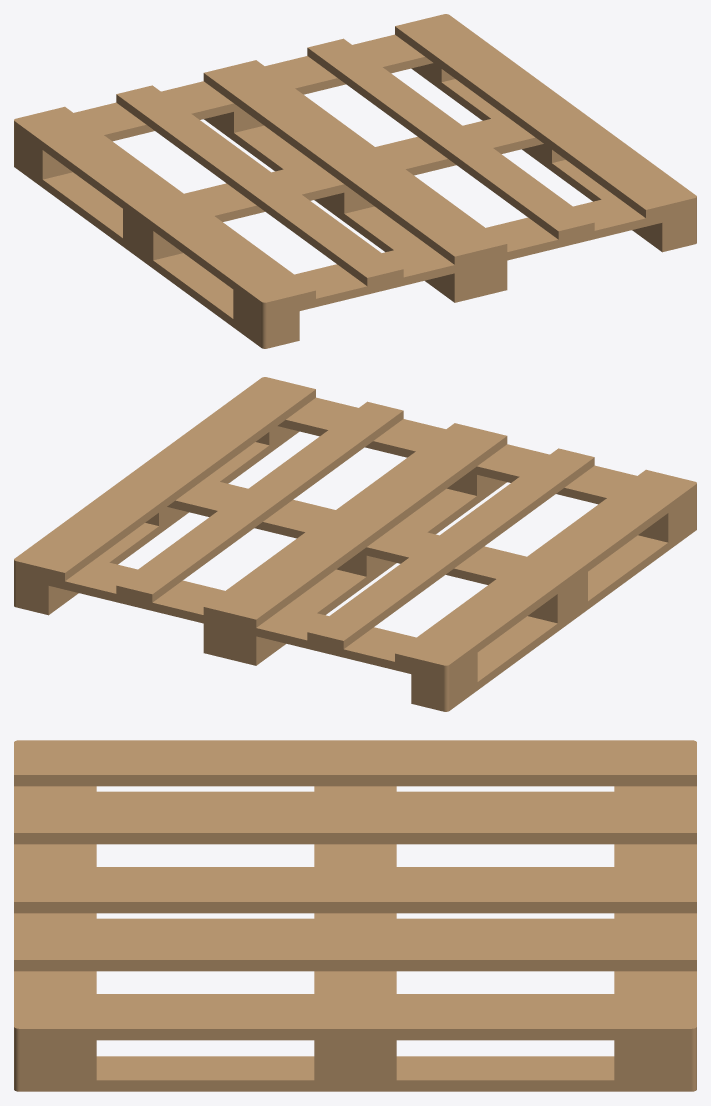
The model's file is Pallet.dae.
The picture shows the model from 3 angles, top to bottom: view 1: azimuth 30°, elevation 25°; view 2: azimuth 150°, elevation 25°; view 3: azimuth 270°, elevation 25°; orthographic projection. The views are drawn at different scales.
Parts seen in each view (by area): view 1: pallet; view 2: pallet; view 3: pallet.
Boxes of the visible parts, box(x1,y1,x2,y2) form: pallet: box(14, 14, 696, 348); pallet: box(14, 377, 696, 711); pallet: box(14, 740, 696, 1091).
Bounding box in the file's own units: 1.2 × 1.2 × 0.122.
